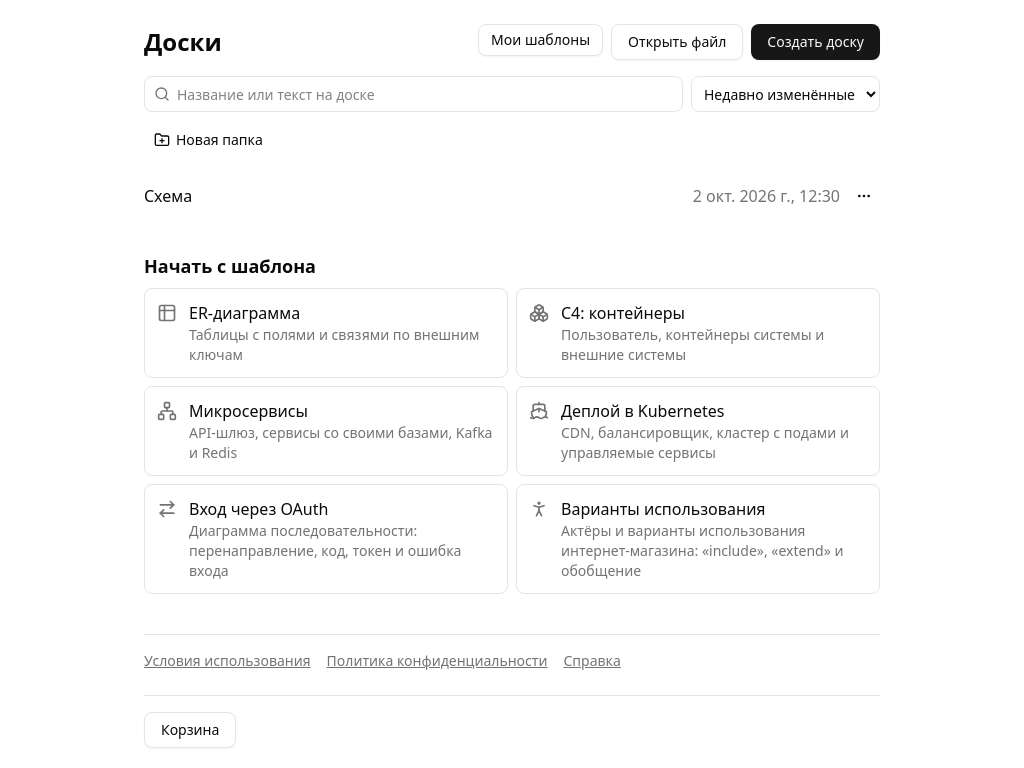
BoardsPage folders › creates a folder over the list
Click the button "Новая папка".
click(208, 140)  # box [144,124,273,156]
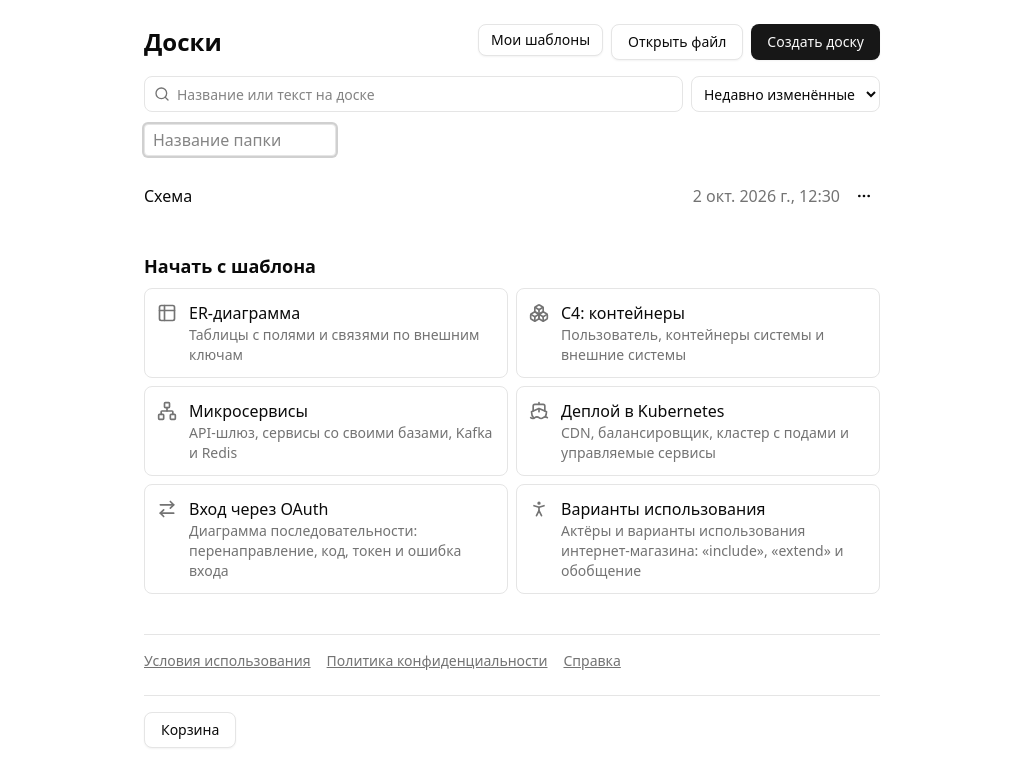
Type " Работа " into the field named "Новая папка".
click(240, 140); type(" Работа ")  # box [144,124,336,156]
Then press Enter
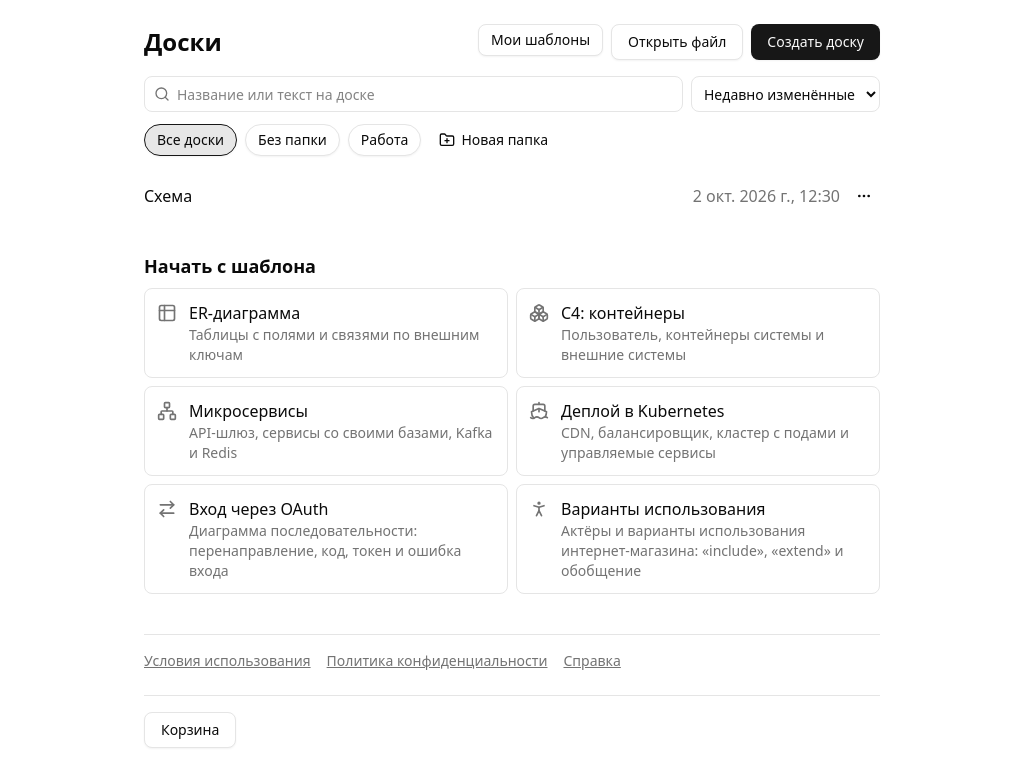
Check: the button "Работа" is shown, box [348,124,421,156]
